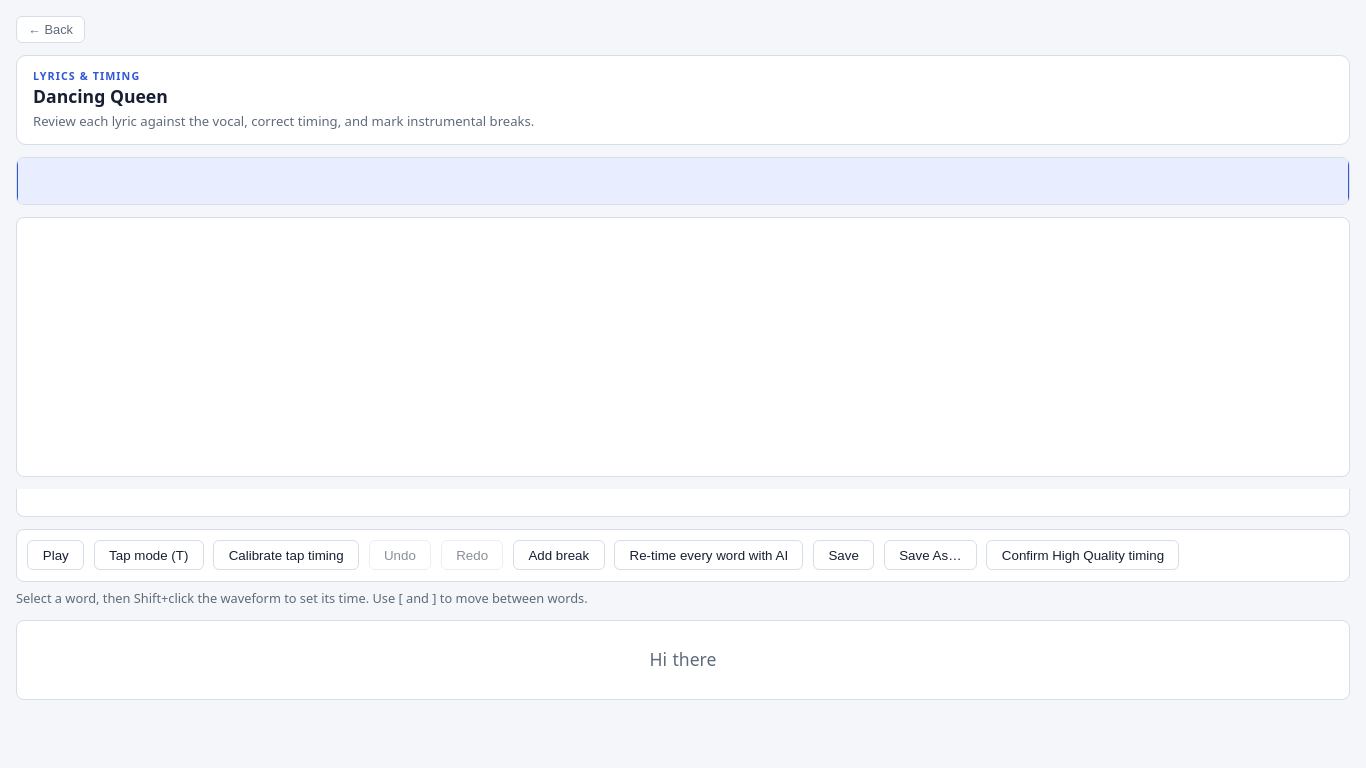
LyricEditor › requires confirmation before marking enhanced timing High Quality
expect the button "Hi" is shown: met, box [647, 644, 670, 676]
Click the button "Confirm High Quality timing" at (1083, 555), box [986, 540, 1180, 570]
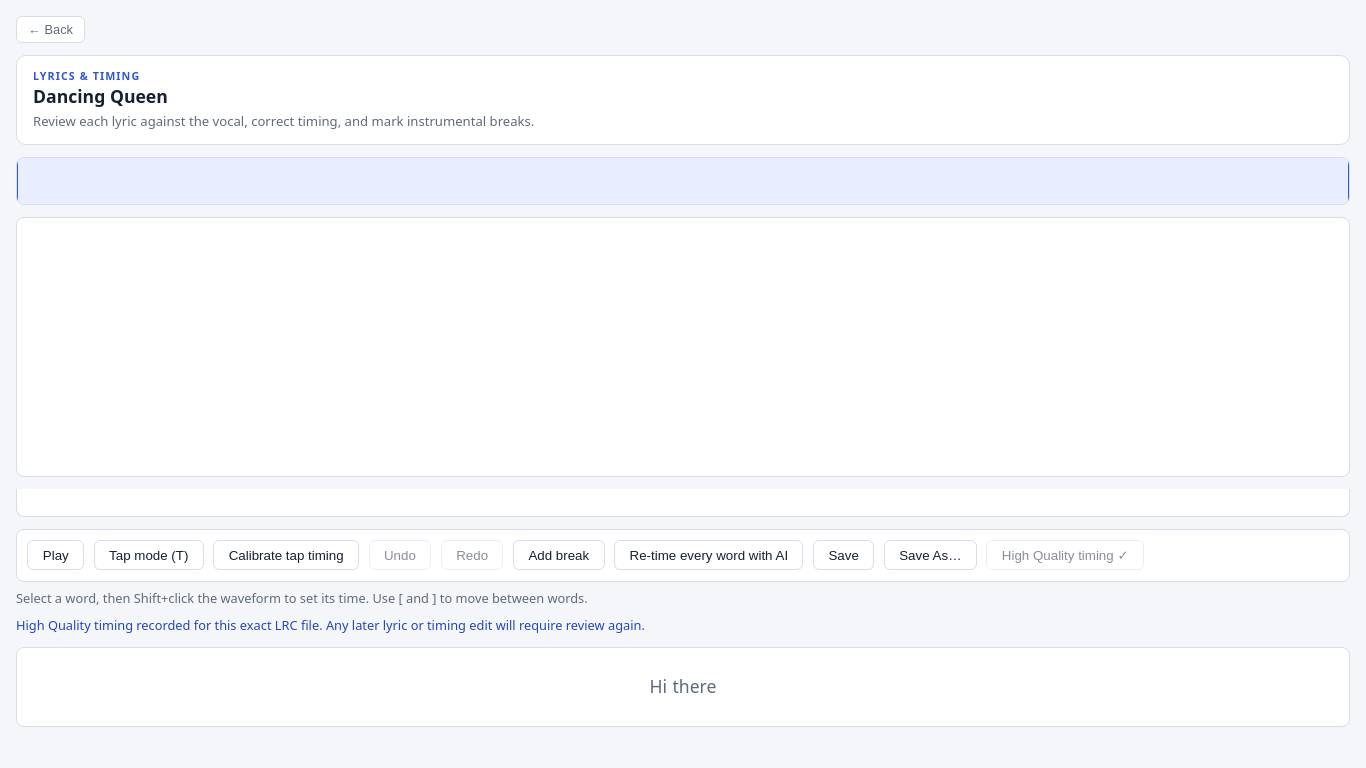
expect the button "High Quality timing ✓" is shown: met, box [986, 540, 1144, 570]
expect the text "recorded for this exact LRC file" is shown: met, box [16, 616, 645, 634]
